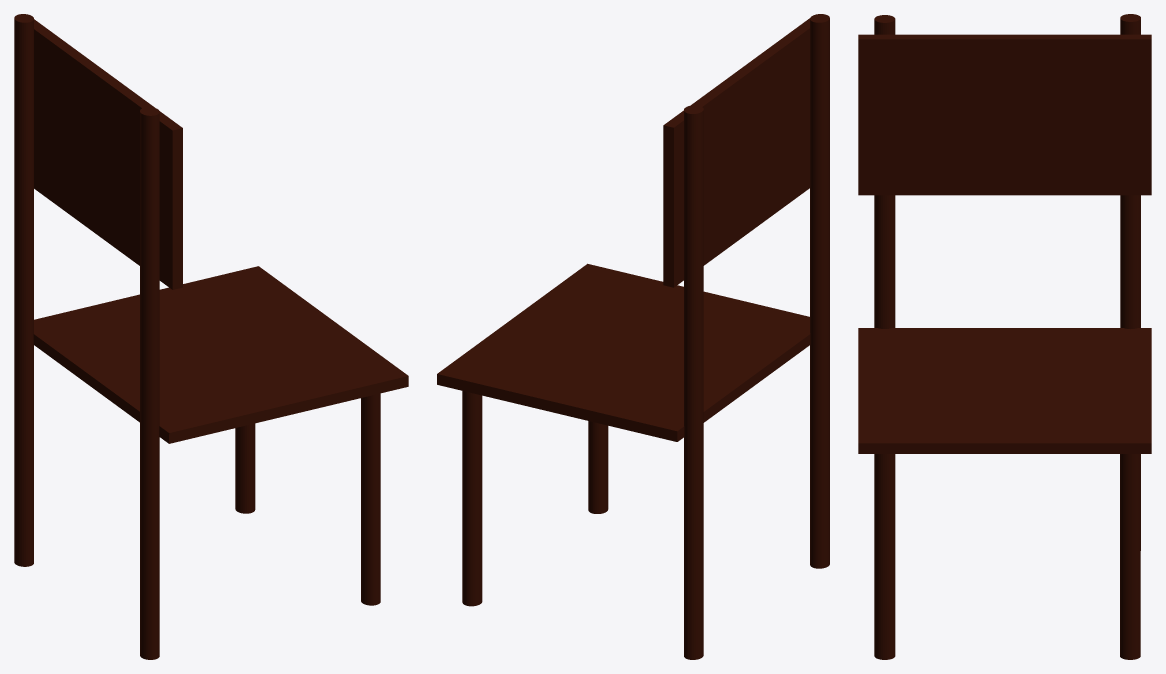
Rendered from chair texture fbx.fbx.
3 views of the same model, side by side, from view 1: azimuth 30°, elevation 25°; view 2: azimuth 150°, elevation 25°; view 3: azimuth 270°, elevation 25° (orthographic). The views are drawn at different scales.
Parts seen in each view (by area): view 1: Cube; view 2: Cube; view 3: Cube.
Part boxes in pixels (box(x1,y1,x2,y2)): Cube: box(14, 14, 408, 659); Cube: box(437, 14, 829, 659); Cube: box(858, 14, 1151, 659).
Size of the model in its own units: 378 by 776 by 387.
